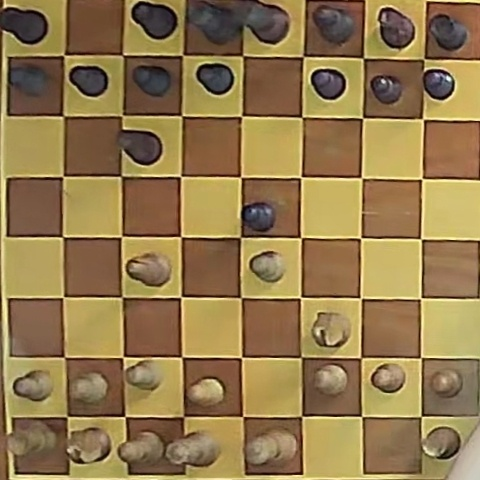black-bishop: (132, 2, 179, 40), (312, 5, 355, 46)
black-king: (231, 1, 289, 44)
black-knight: (117, 130, 163, 165), (378, 7, 415, 48)
black-pawn: (9, 64, 51, 97), (69, 65, 109, 97), (132, 64, 172, 96), (310, 69, 346, 100), (196, 64, 233, 94), (241, 202, 276, 231), (423, 69, 455, 100), (370, 74, 403, 104)
black-queen: (188, 2, 247, 45)
black-rook: (0, 6, 48, 45), (428, 13, 468, 52)
white-bishop: (119, 431, 166, 466), (126, 252, 169, 286)
white-king: (246, 428, 298, 466)
white-knight: (66, 427, 111, 463), (312, 312, 350, 347)
white-pawn: (70, 371, 109, 404), (13, 369, 53, 401), (186, 377, 225, 407), (125, 359, 161, 390), (250, 251, 286, 282), (314, 364, 348, 395), (371, 363, 405, 393), (430, 368, 462, 397)
white-queen: (163, 430, 219, 466)
white-rook: (8, 421, 56, 456), (422, 427, 459, 459)
